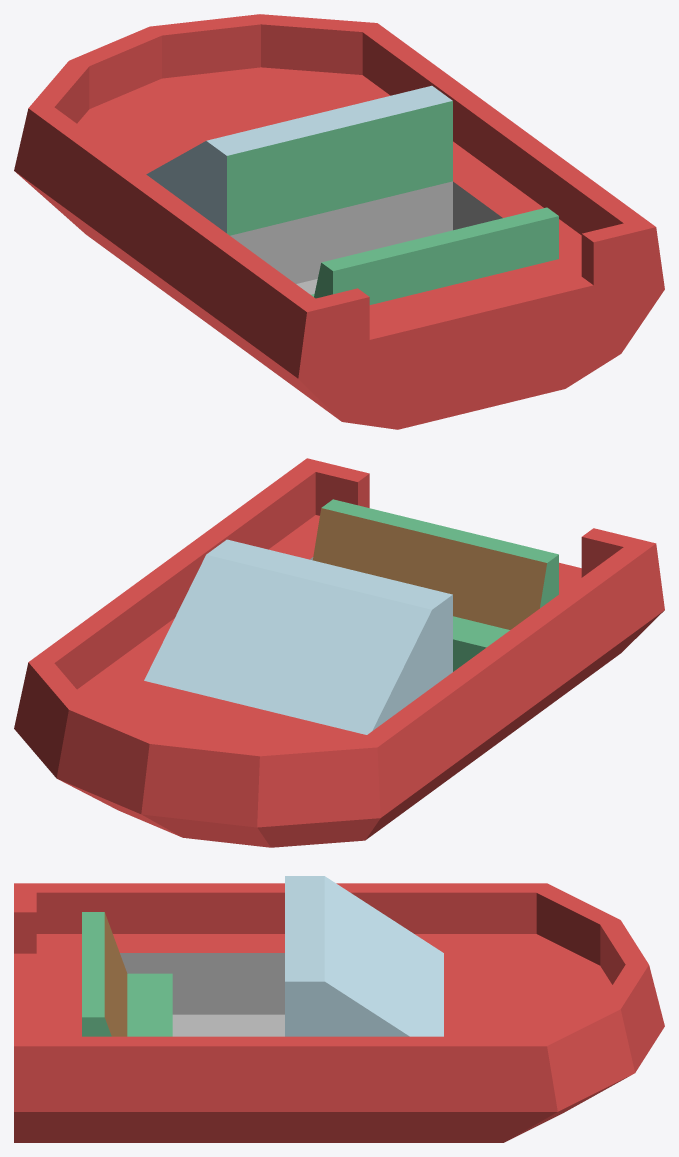
Rendered from boat_012.fbx.
3 views of the same model, one above another, from view 1: azimuth 30°, elevation 25°; view 2: azimuth 150°, elevation 25°; view 3: azimuth 270°, elevation 25° (orthographic). The views are drawn at different scales.
Parts seen in each view (by area): view 1: boat_012; view 2: boat_012; view 3: boat_012.
Part boxes in pixels (x1,y1,x2,y2): boat_012: (14,14,664,429); boat_012: (14,458,664,847); boat_012: (14,876,664,1142).
Size of the model in its own units: 17.85 by 8.25 by 28.7.
